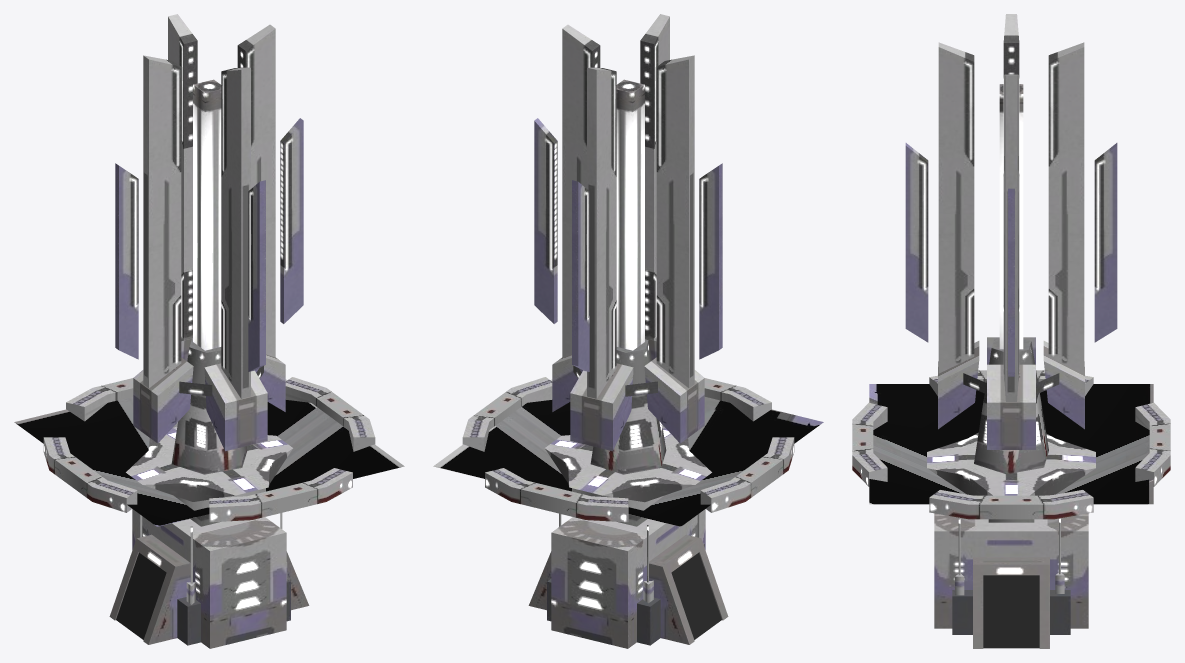
3 views of the same model, side by side, from view 1: azimuth 30°, elevation 25°; view 2: azimuth 150°, elevation 25°; view 3: azimuth 270°, elevation 25° (orthographic).
Parts seen in each view (by area): view 1: turret-plasma-ground-lod1; view 2: turret-plasma-ground-lod1; view 3: turret-plasma-ground-lod1.
Boxes of the visible parts, left/top/right/bottom form: turret-plasma-ground-lod1: left=14, top=14, right=404, bottom=648; turret-plasma-ground-lod1: left=433, top=14, right=823, bottom=648; turret-plasma-ground-lod1: left=852, top=14, right=1170, bottom=648.
Size of the model in its own units: 5.19 by 10.17 by 5.19.
Materials: 2 (1 with a texture image).
